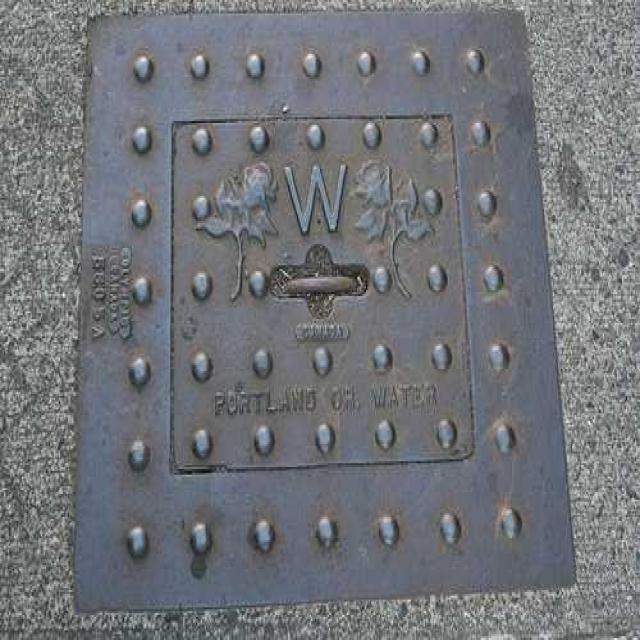manhole: (75, 13, 574, 611)
